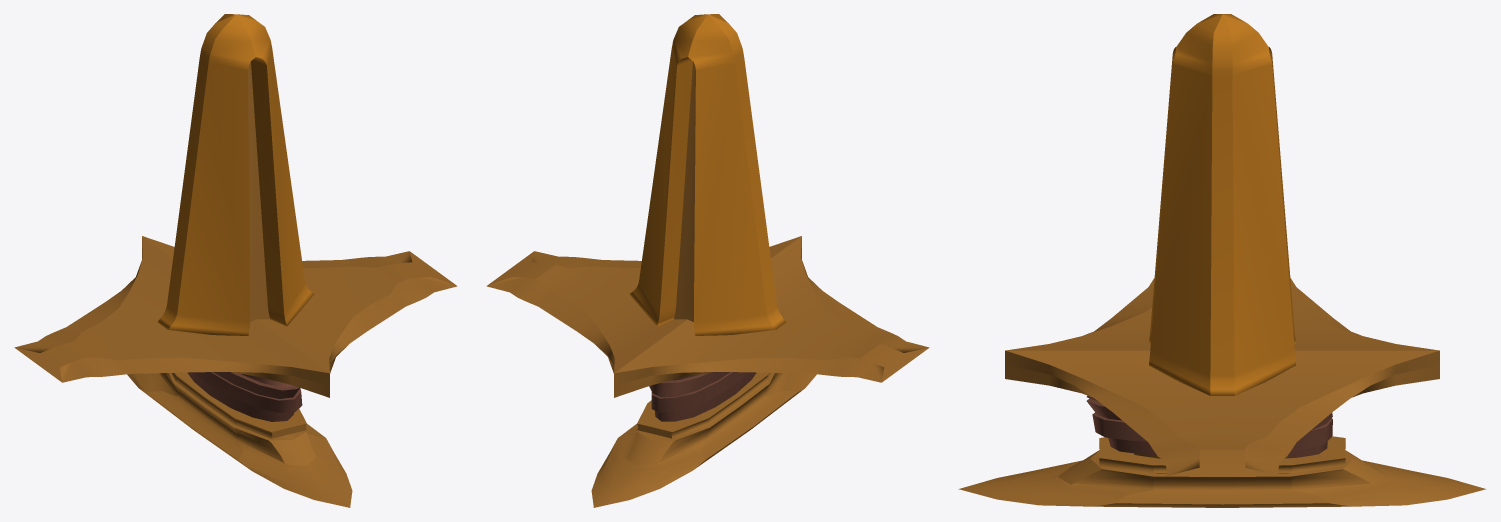
File: sword.glb
The picture shows the model from 3 angles, left to right: view 1: azimuth 30°, elevation 25°; view 2: azimuth 150°, elevation 25°; view 3: azimuth 270°, elevation 25°; orthographic projection. The views are drawn at different scales.
Parts seen in each view (by area): view 1: Sword_Bronze; view 2: Sword_Bronze; view 3: Sword_Bronze.
Boxes of the visible parts, bbox=[...] form: Sword_Bronze: bbox=[14, 14, 457, 507]; Sword_Bronze: bbox=[486, 14, 929, 507]; Sword_Bronze: bbox=[958, 14, 1486, 507].
Size of the model in its own units: 1 by 1 by 1.
